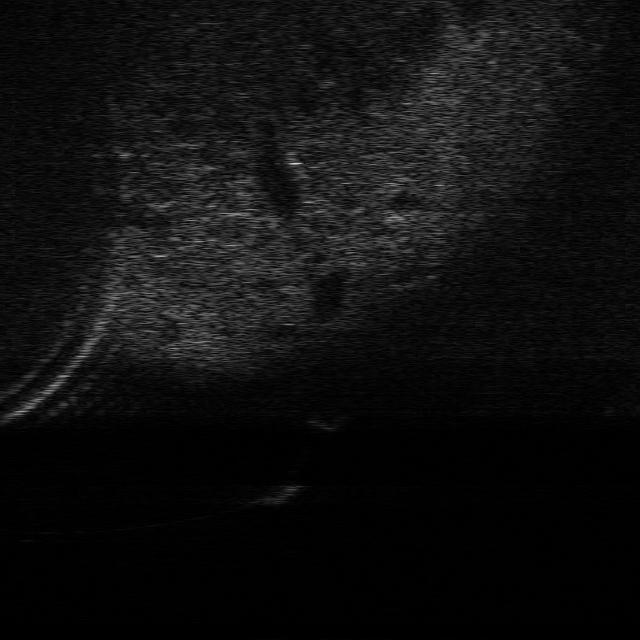cube: (306, 408, 346, 433)
cylinder: (254, 480, 302, 506)
